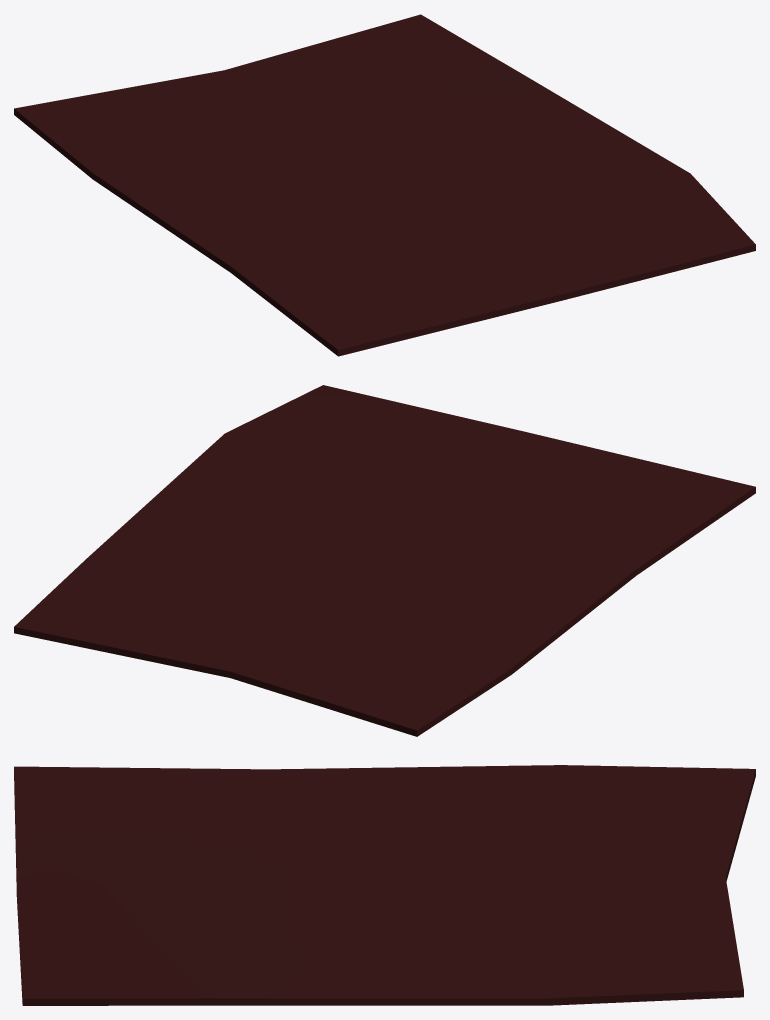
Rendered from NapkinUnfolded.FBX.
3 renders of one model, top to bottom at view 1: azimuth 30°, elevation 25°; view 2: azimuth 150°, elevation 25°; view 3: azimuth 270°, elevation 25°, orthographic. The views are drawn at different scales.
Visible parts, largest first — view 1: Box204; view 2: Box204; view 3: Box204.
Part boxes in pixels (x1,y1,x2,y2): Box204: (14, 14, 755, 356); Box204: (14, 385, 755, 736); Box204: (14, 765, 755, 1005).
Bounding box in the file's own units: 10.99 × 0.3399 × 14.22.
Materials: 1 (1 with a texture image).
